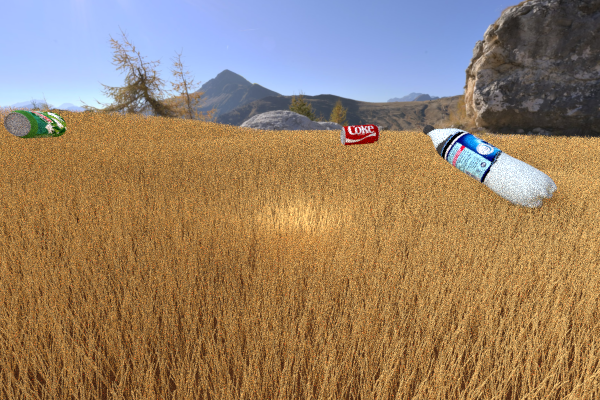bottle: (422, 124, 557, 208)
can: (3, 110, 66, 138), (340, 124, 379, 145)
